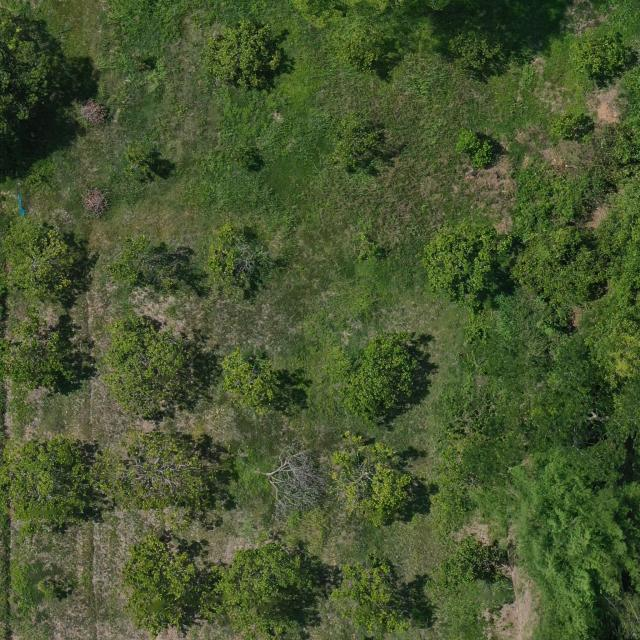Tree: (209, 542, 313, 640), (101, 312, 190, 419), (421, 218, 515, 307), (115, 429, 214, 513), (330, 430, 413, 530), (6, 433, 91, 527), (0, 5, 56, 145), (122, 536, 200, 633), (343, 333, 423, 422), (329, 555, 410, 640), (6, 306, 75, 397), (2, 216, 78, 298), (206, 222, 272, 301), (207, 21, 282, 89), (108, 234, 184, 294), (325, 108, 387, 174), (219, 347, 283, 409), (568, 30, 632, 80), (440, 531, 493, 587), (455, 128, 496, 170), (124, 142, 155, 180), (548, 112, 587, 138)
